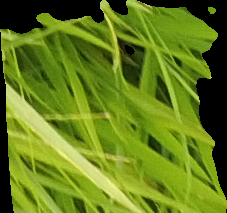grass: (1, 1, 226, 212)
